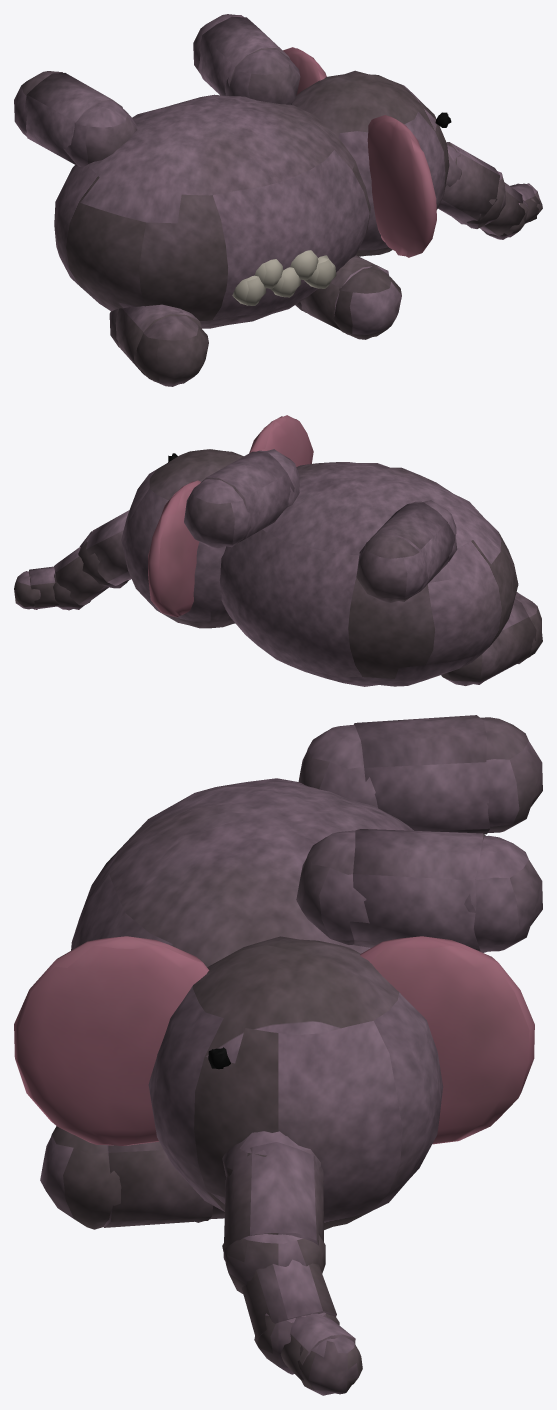
Rendered from T23_giant_plush_elephant.glb.
The picture shows the model from 3 angles, top to bottom: view 1: azimuth 30°, elevation 25°; view 2: azimuth 150°, elevation 25°; view 3: azimuth 270°, elevation 25°; orthographic projection. The views are drawn at different scales.
Visible parts, largest first — view 1: T23_giant_plush_elephant; view 2: T23_giant_plush_elephant; view 3: T23_giant_plush_elephant.
Boxes of the visible parts, left/top/right/bottom form: T23_giant_plush_elephant: left=14, top=14, right=542, bottom=386; T23_giant_plush_elephant: left=14, top=415, right=542, bottom=686; T23_giant_plush_elephant: left=14, top=715, right=542, bottom=1395.
Bounding box in the file's own units: 1.5 × 0.686 × 0.8791.
4 materials, 4 textured.
